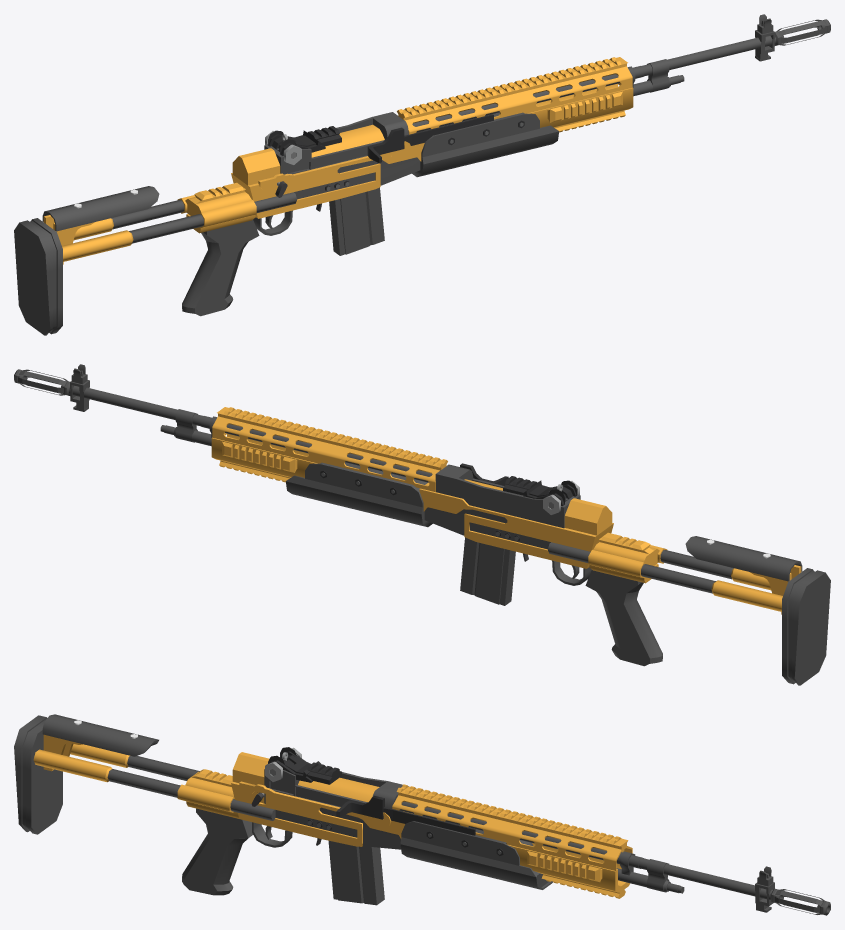
File: M14_EBR_Mesh.fbx
3 renders of one model, top to bottom at view 1: azimuth 30°, elevation 25°; view 2: azimuth 150°, elevation 25°; view 3: azimuth 330°, elevation 25°, orthographic.
Visible parts, largest first — view 1: M14_EBR; view 2: M14_EBR; view 3: M14_EBR.
Boxes of the visible parts, x1,y1,x2,y2 form: M14_EBR: [14, 14, 830, 335]; M14_EBR: [14, 364, 830, 685]; M14_EBR: [14, 714, 830, 915].
Size of the model in its own units: 0.8195 by 0.1531 by 0.0662.
